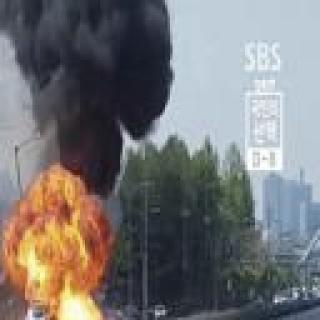fire: (6, 216, 109, 292), (25, 175, 87, 216), (51, 297, 109, 320)
